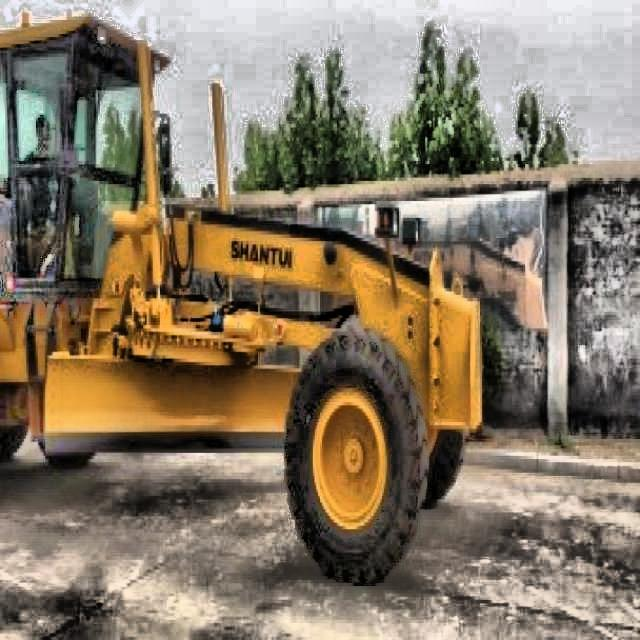bull_dozer/loader/grader: (0, 8, 485, 590)
person: (21, 111, 59, 236)
